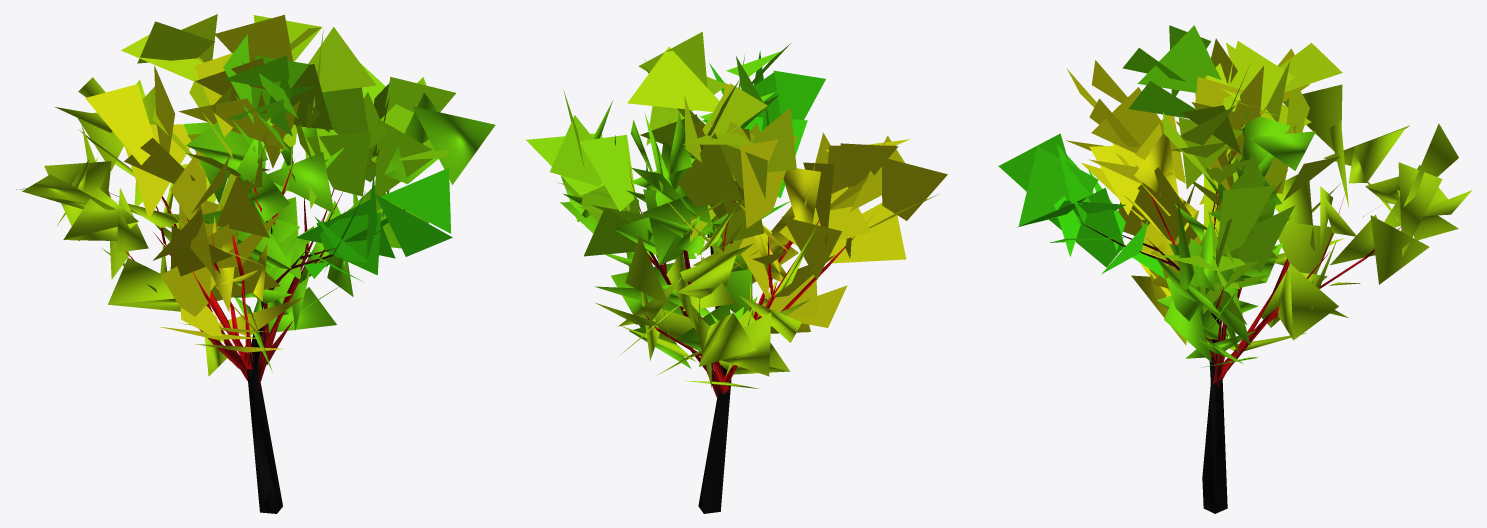
The model's file is tree_wide.glb.
3 renders of one model, left to right at view 1: azimuth 30°, elevation 25°; view 2: azimuth 150°, elevation 25°; view 3: azimuth 270°, elevation 25°, orthographic. The views are drawn at different scales.
Visible parts, largest first — view 1: Tree_4__1_; view 2: Tree_4__1_; view 3: Tree_4__1_.
Part boxes in pixels (<box>): Tree_4__1_: <box>16,14,495,513</box>; Tree_4__1_: <box>526,32,947,513</box>; Tree_4__1_: <box>998,25,1472,513</box>.
Bounding box in the file's own units: 12.86 × 15.99 × 14.82.
